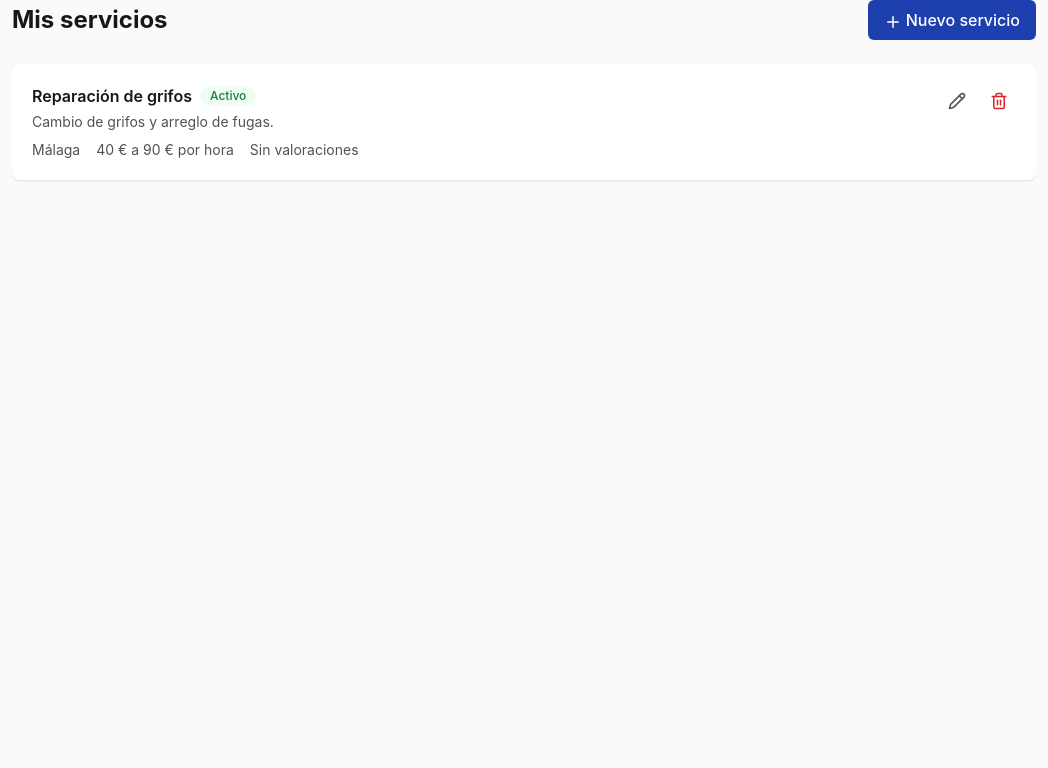
Mis servicios › editar › cancelar vuelve a la lista
Expected: the link "Reparación de grifos" is shown, [32,86,192,106]
Click the button named "Editar Reparación de grifos" at coordinates (957, 101), box [940,84,974,118]
(page scrolled)
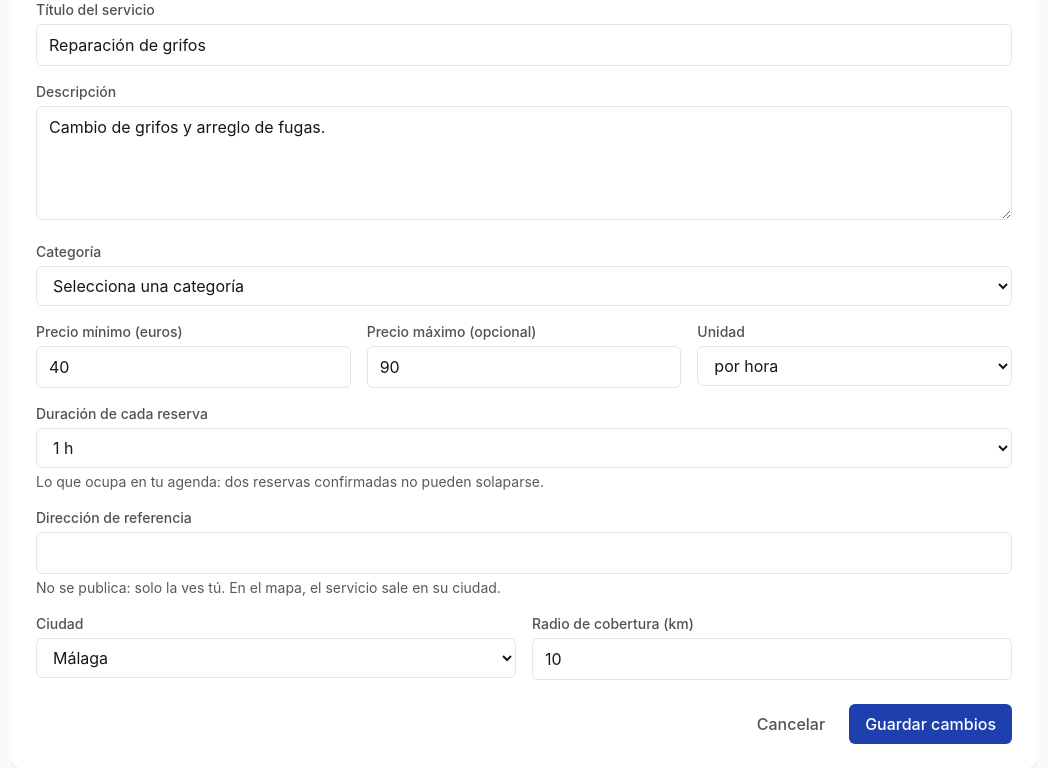
Click the button "Cancelar" at coordinates (791, 724), box [741,704,841,744]
(page scrolled)
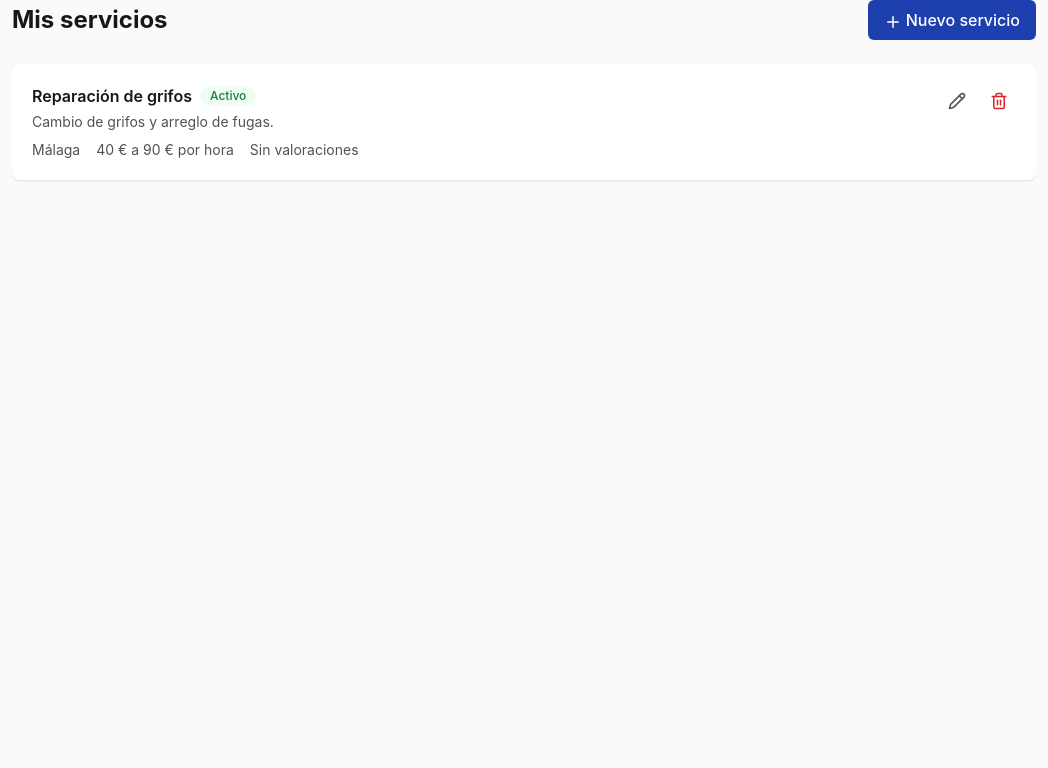
Result: the heading "Mis servicios" is shown at [12,4,168,36]
